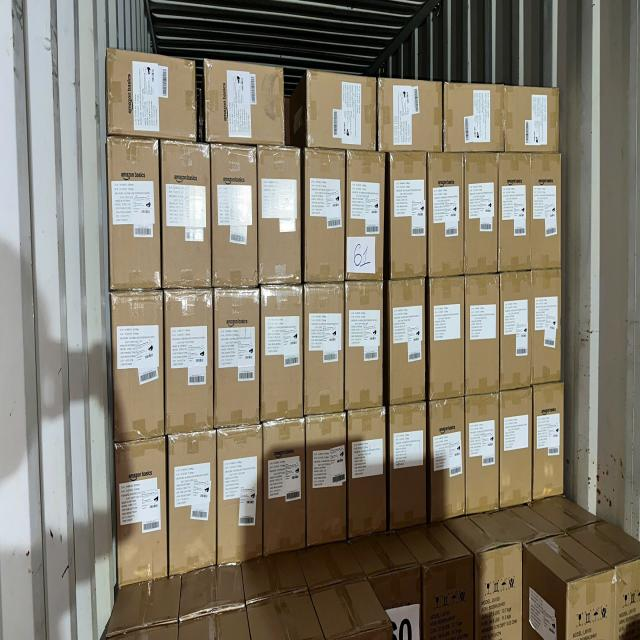Carton: (108, 53, 198, 146), (110, 138, 163, 290), (116, 436, 168, 584), (114, 294, 166, 439), (164, 142, 214, 289), (210, 62, 290, 150), (171, 434, 219, 576), (168, 292, 216, 434), (211, 147, 258, 286), (213, 289, 259, 431), (216, 429, 262, 569), (262, 287, 305, 424), (307, 71, 379, 152), (260, 150, 303, 283), (263, 422, 305, 555), (309, 416, 350, 547), (303, 152, 344, 282), (303, 284, 343, 416), (344, 282, 384, 409), (345, 151, 384, 281), (378, 81, 444, 156), (347, 410, 385, 537), (392, 155, 430, 281), (390, 280, 428, 404), (391, 404, 429, 526), (427, 153, 463, 277), (428, 399, 464, 518), (445, 86, 505, 155), (428, 277, 463, 395), (467, 274, 502, 391), (466, 156, 499, 277), (532, 154, 565, 272), (468, 395, 501, 513), (498, 156, 529, 274), (499, 391, 531, 505), (504, 88, 558, 155), (500, 271, 531, 387), (534, 268, 564, 384), (535, 387, 565, 501)
